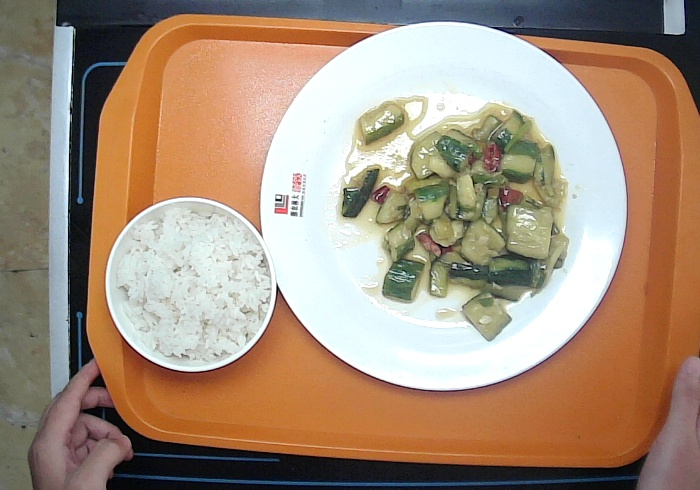ZNLD-Da_Yuan_Pan: (258, 21, 628, 389)
ZNLD-Fan_Wan: (102, 195, 277, 373)
